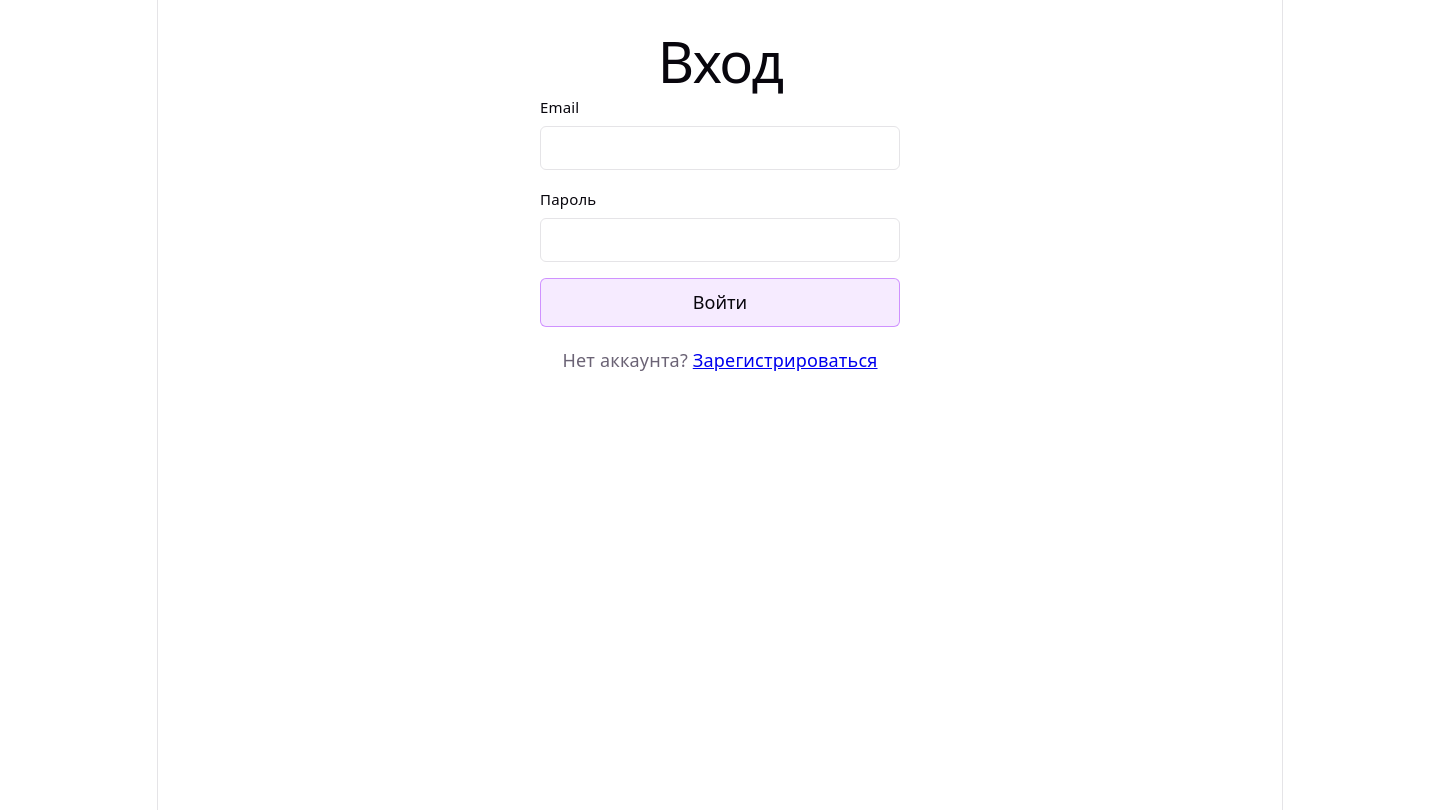
Test: LoginPage › не отправляет запрос при незаполненных полях
Click the button "Войти".
click(720, 303)  # box [540,278,900,327]
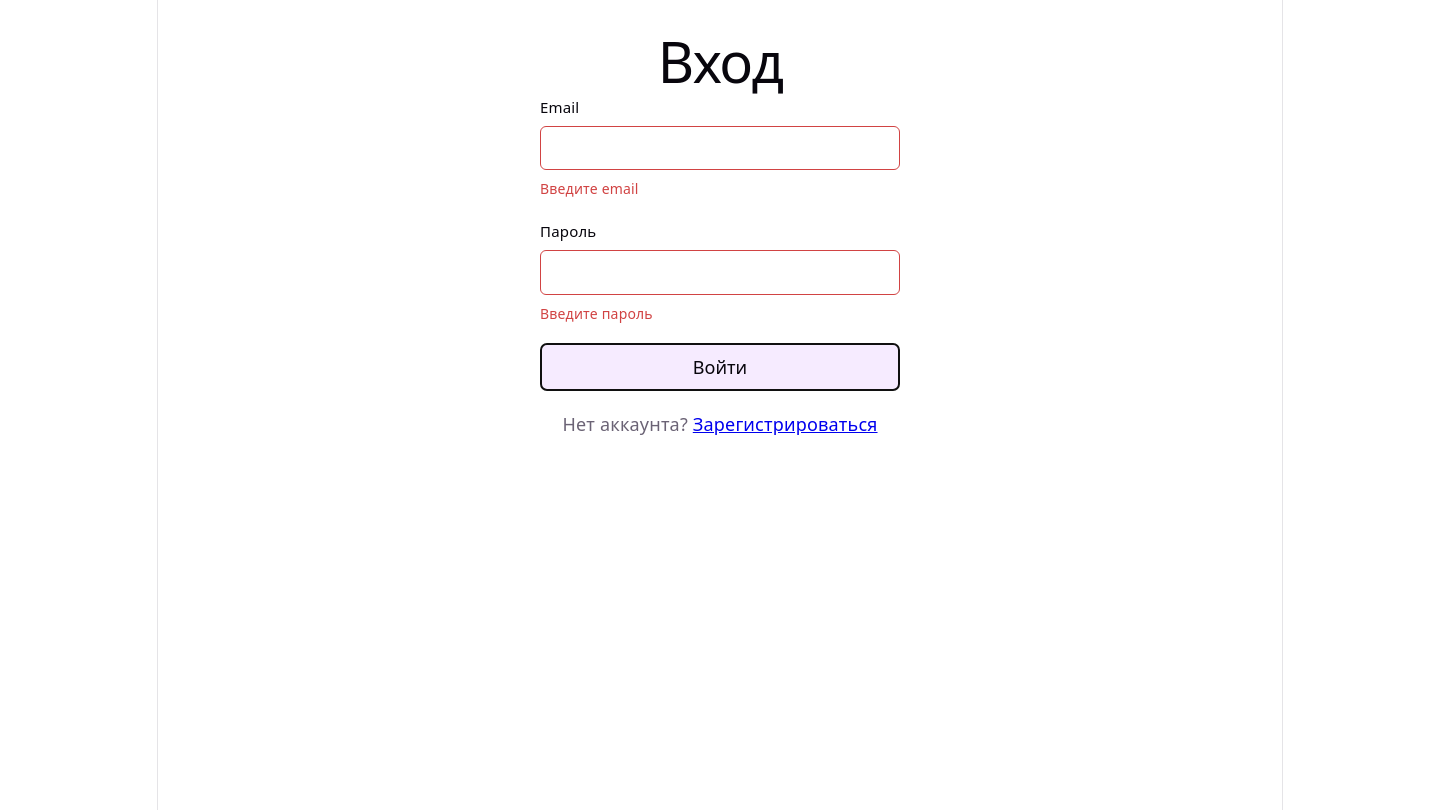
expect the text "Введите email" is shown: met, box [540,179,639,198]
expect the text "Введите пароль" is shown: met, box [540,304,653,323]
